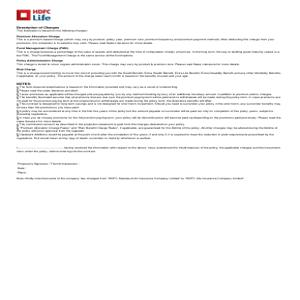image: (10, 6, 54, 24)
text: (16, 82, 282, 141), (14, 160, 247, 182), (15, 47, 280, 57), (15, 35, 278, 45), (16, 69, 282, 78), (16, 145, 281, 154), (17, 57, 241, 67), (16, 24, 89, 33)
